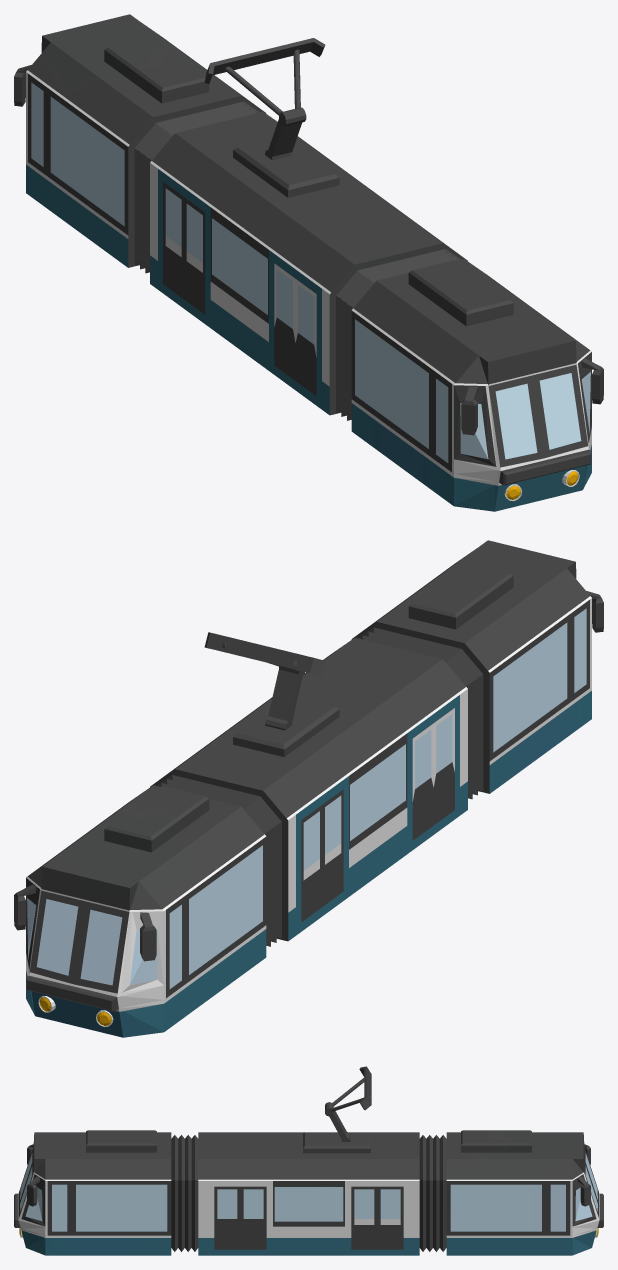
The model's file is tram.glb.
3 renders of one model, top to bottom at view 1: azimuth 30°, elevation 25°; view 2: azimuth 150°, elevation 25°; view 3: azimuth 270°, elevation 25°, orthographic. The views are drawn at different scales.
Parts seen in each view (by area): view 1: Tram; view 2: Tram; view 3: Tram.
Part boxes in pixels (x1,y1,x2,y2): Tram: [14, 14, 603, 511]; Tram: [14, 540, 603, 1037]; Tram: [14, 1066, 603, 1255].
Size of the model in its own units: 38.52 by 63.95 by 224.
Materials: 1 (1 with a texture image).
